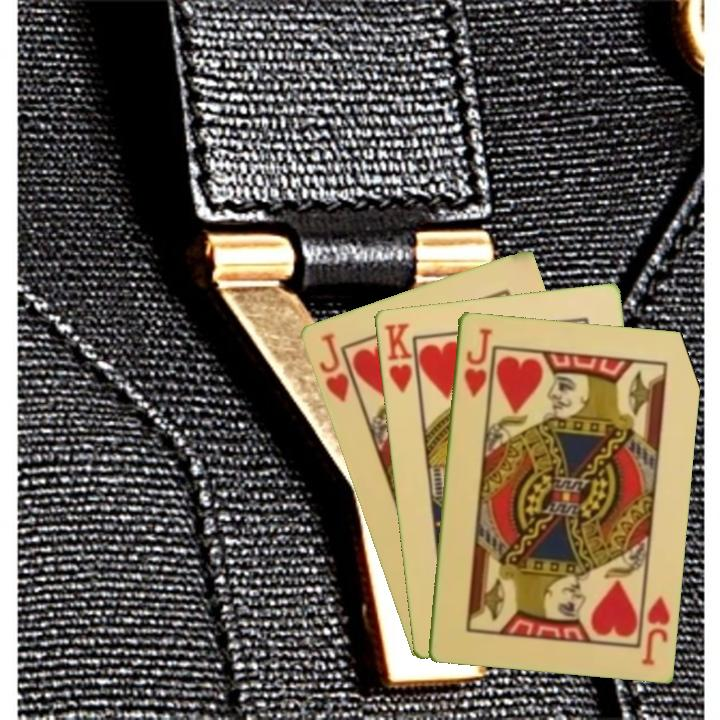Jh: (315, 329, 352, 405), (637, 591, 673, 668), (460, 324, 494, 400)
Kh: (380, 319, 421, 400)
